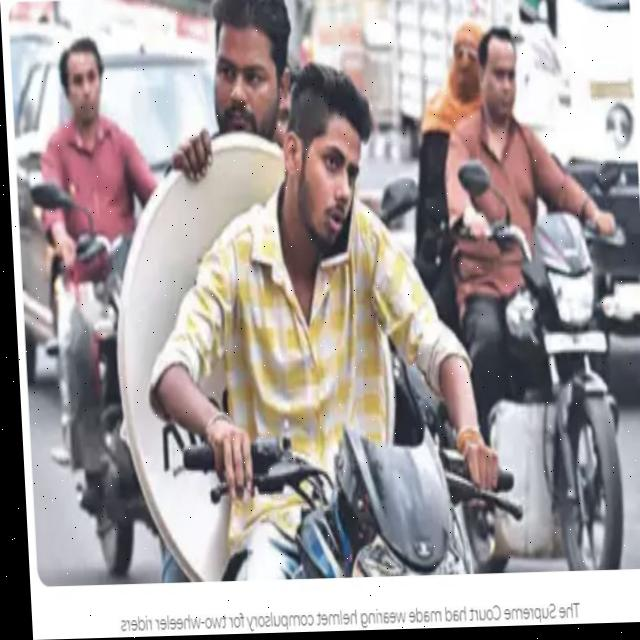without helmet: (261, 45, 381, 264), (469, 13, 527, 134), (47, 31, 108, 132)
